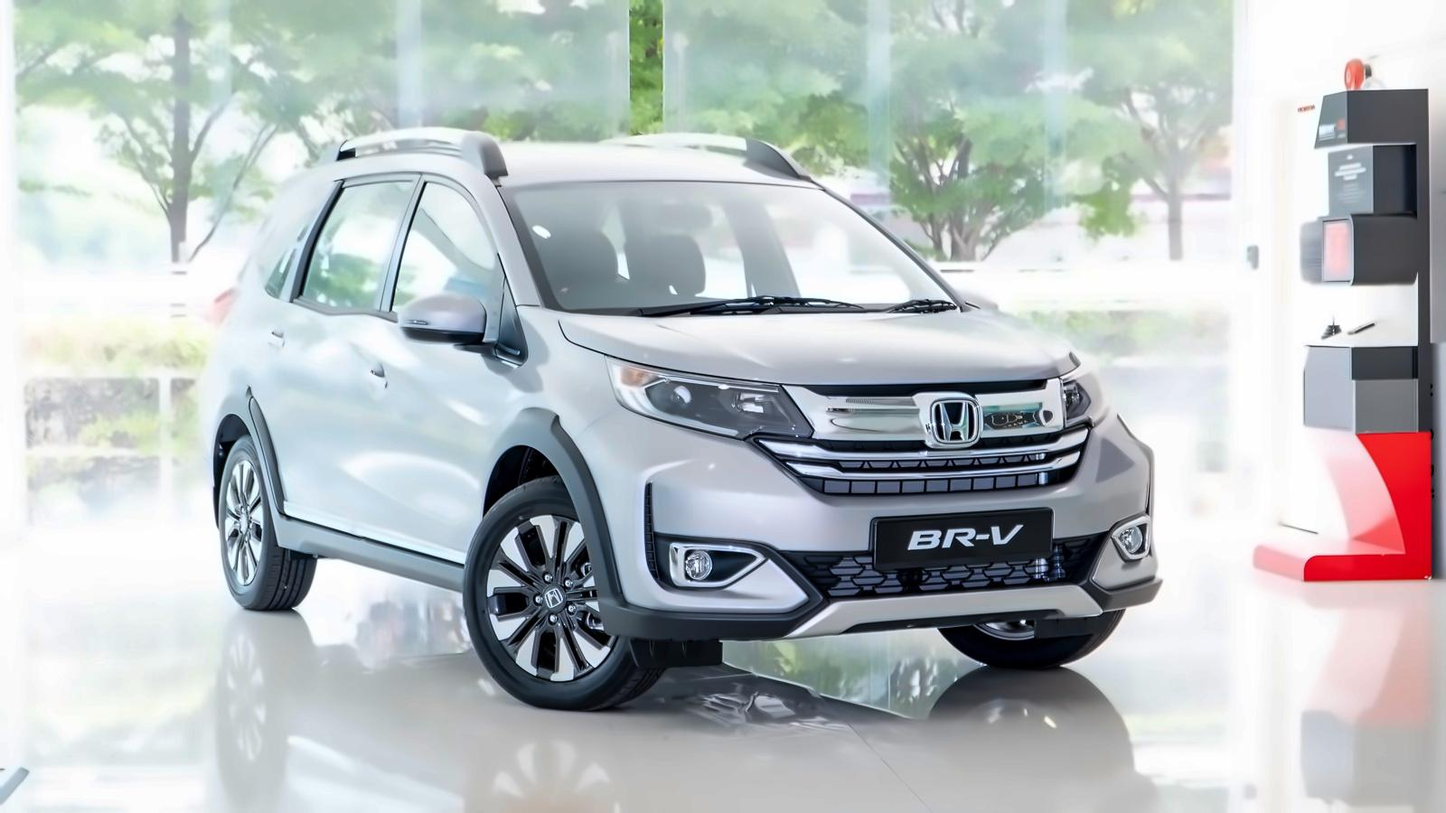Car hood: (549, 301, 1096, 395)
Driver-s door - -F-R-: (373, 152, 529, 563)
Fender - -F-R-: (470, 298, 623, 563)
Fender - -R-R-: (194, 308, 283, 428)
Front bumper: (582, 430, 1180, 646)
Headlight - -L-: (1028, 358, 1118, 442)
Headlight - -R-: (594, 344, 816, 454)
Passenger-s door - -R-R-: (260, 152, 377, 538)
Rear bumper: (179, 380, 247, 532)
Rear light - -R-: (197, 276, 251, 343)
Side bumper - -R-: (256, 502, 477, 604)
Side mirror - -R-: (389, 283, 500, 360)
